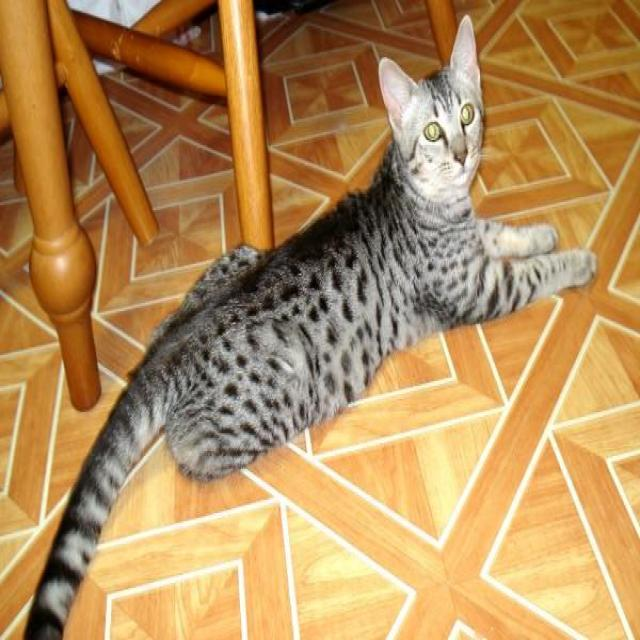Egyptian_Mau: (372, 9, 485, 193)
